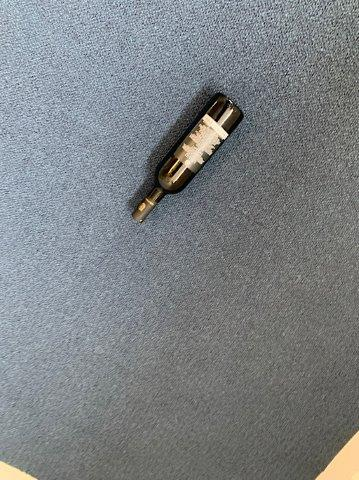botolkaca: (132, 93, 245, 223)
